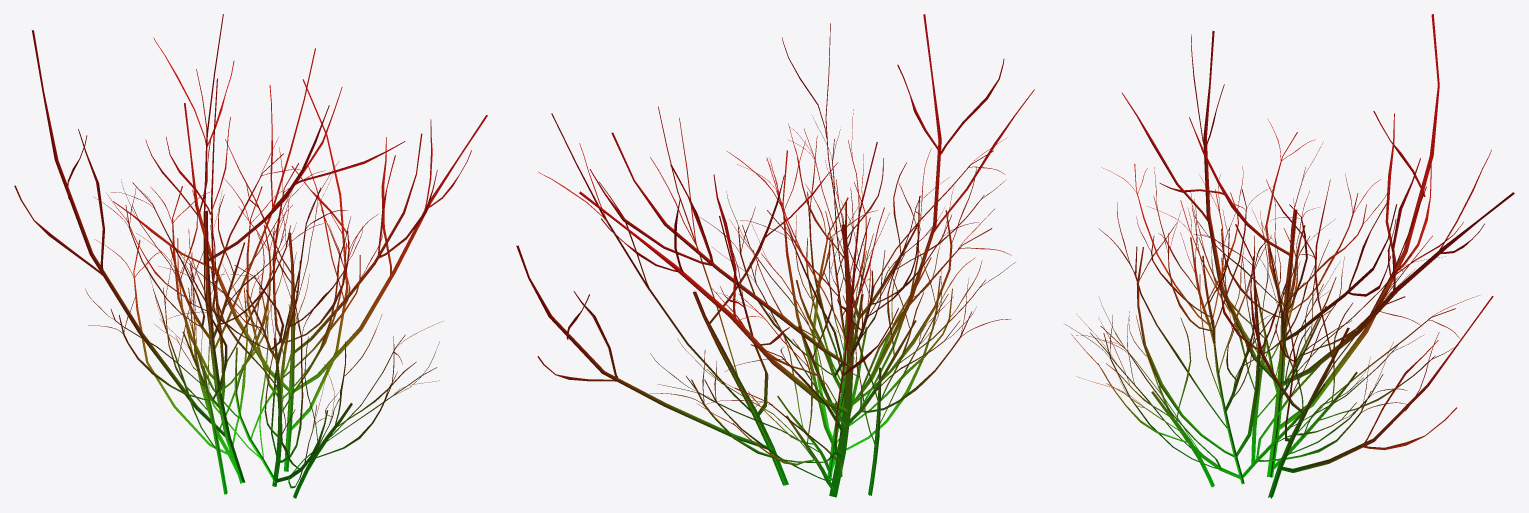
The model's file is Leptadenia_LOD2_Var7_xdkgfgtqx.fbx.
The picture shows the model from 3 angles, left to right: view 1: azimuth 30°, elevation 25°; view 2: azimuth 150°, elevation 25°; view 3: azimuth 270°, elevation 25°; orthographic projection. The views are drawn at different scales.
Parts seen in each view (by area): view 1: _vm4g_Var7_LOD2; view 2: _vm4g_Var7_LOD2; view 3: _vm4g_Var7_LOD2.
Part boxes in pixels (left/top/right/bottom): _vm4g_Var7_LOD2: left=14, top=14, right=487, bottom=498; _vm4g_Var7_LOD2: left=516, top=14, right=1034, bottom=497; _vm4g_Var7_LOD2: left=1065, top=14, right=1514, bottom=498.
Bounding box in the file's own units: 78.28 × 79.58 × 77.17.
